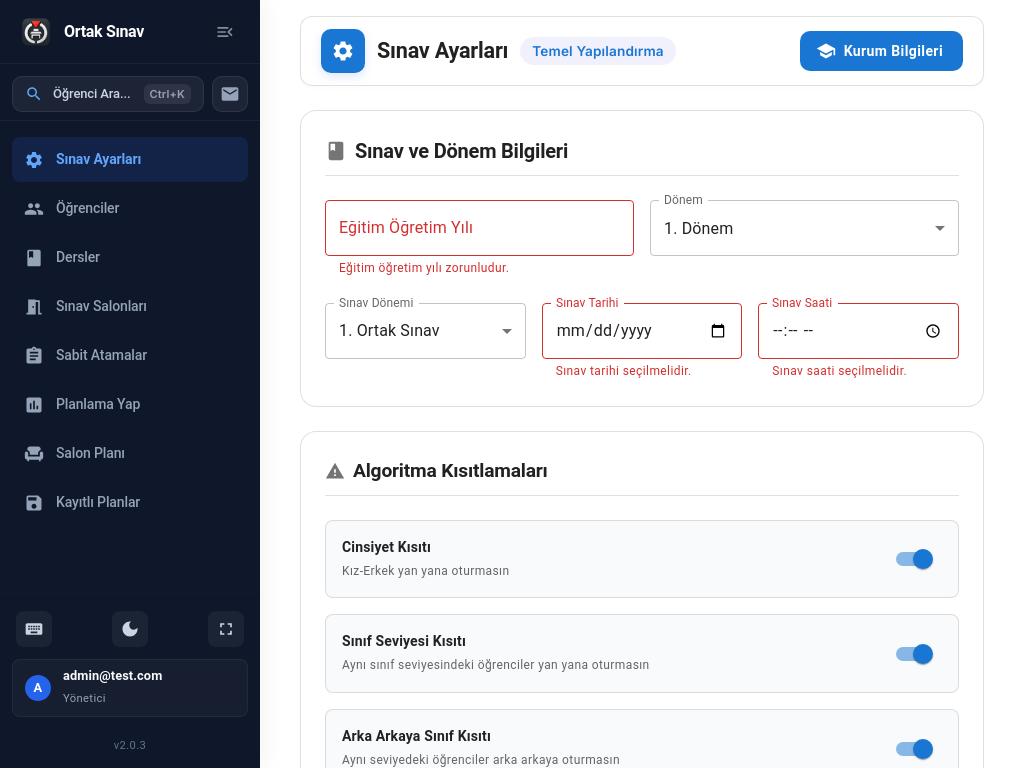
AnaSayfa Component › should switch between tabs correctly
The image size is (1024, 768).
Click the button "Öğrenciler".
click(72, 208)  # box 24,198 -> 119,218
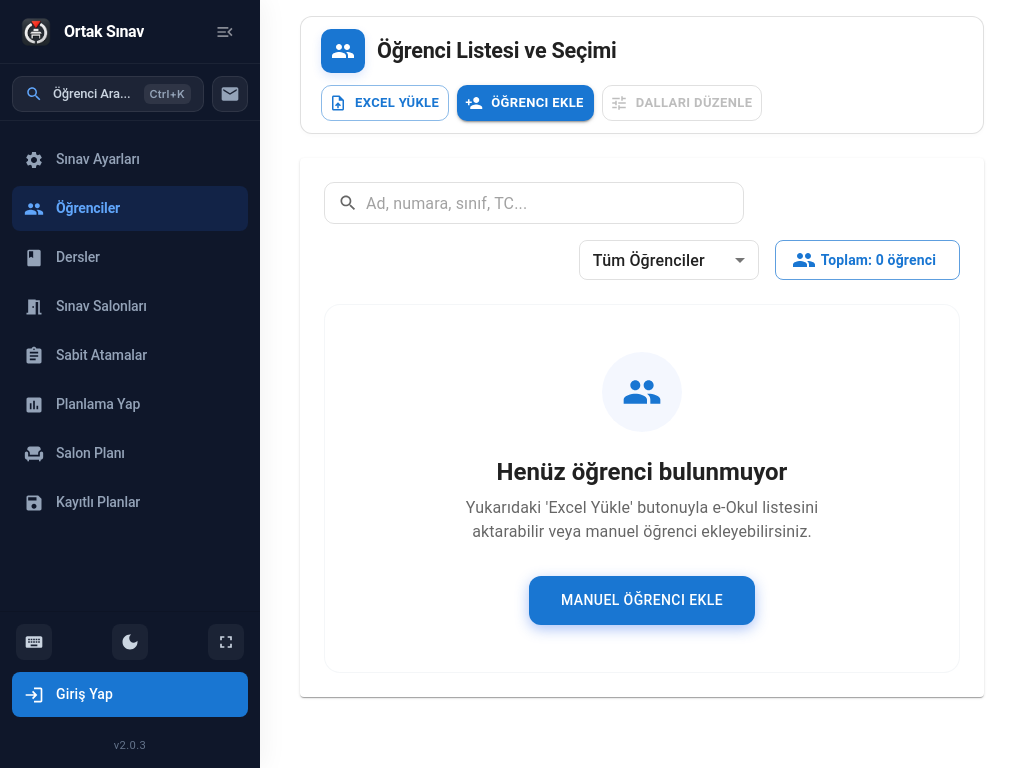
expect the heading "Öğrenci Listesi ve Seçimi" is shown: met, box 377,37 -> 617,65
